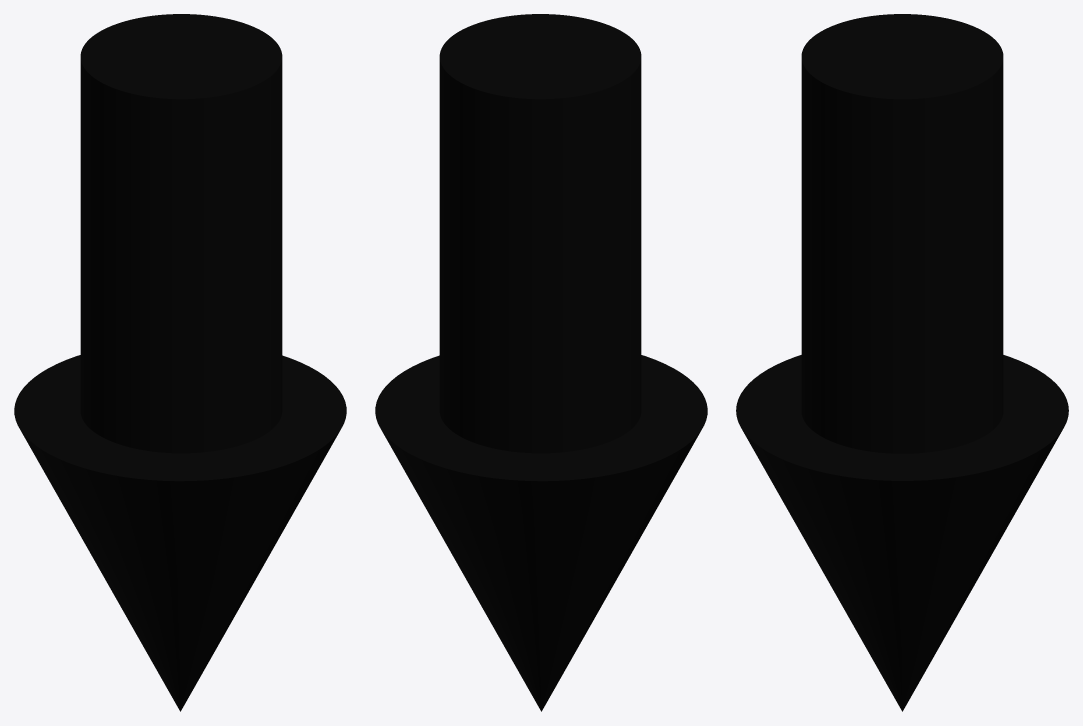
The model's file is arrow.fbx.
3 renders of one model, left to right at view 1: azimuth 30°, elevation 25°; view 2: azimuth 150°, elevation 25°; view 3: azimuth 270°, elevation 25°, orthographic.
Visible parts, largest first — view 1: root (×2); view 2: root (×2); view 3: root (×2).
Boxes of the visible parts, <box> form: root (×2): <box>14,14,346,711</box>; root (×2): <box>375,14,707,711</box>; root (×2): <box>736,14,1068,711</box>.
Bounding box in the file's own units: 0.1593 × 0.3463 × 0.1593.
2 materials, 2 textured.
